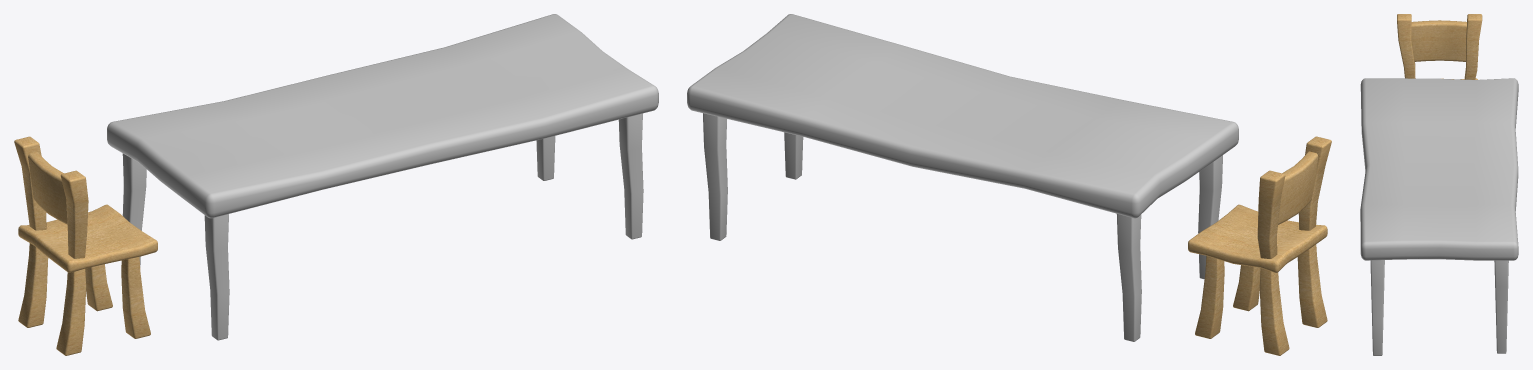
File: table chair.FBX
3 renders of one model, left to right at view 1: azimuth 30°, elevation 25°; view 2: azimuth 150°, elevation 25°; view 3: azimuth 270°, elevation 25°, orthographic. The views are drawn at different scales.
Visible parts, largest first — view 1: ChamferBox001, ChamferBox018, ChamferBox002, ChamferBox008, ChamferBox014, ChamferBox020, ChamferBox021, ChamferBox015, ChamferBox016, ChamferBox006, ChamferBox019, ChamferBox017 (+1 smaller); view 2: ChamferBox001, ChamferBox018, ChamferBox006, ChamferBox007, ChamferBox015, ChamferBox019, ChamferBox021, ChamferBox017, ChamferBox014, ChamferBox002, ChamferBox020, ChamferBox016 (+1 smaller); view 3: ChamferBox001, ChamferBox021, ChamferBox008, ChamferBox007, ChamferBox019, ChamferBox020.
Part boxes in pixels (x1,y1,x2,y2): ChamferBox001: [107, 14, 658, 218]; ChamferBox018: [18, 204, 157, 272]; ChamferBox002: [204, 214, 229, 340]; ChamferBox008: [618, 113, 643, 239]; ChamferBox014: [56, 269, 86, 355]; ChamferBox020: [60, 170, 88, 258]; ChamferBox021: [28, 152, 67, 224]; ChamferBox015: [18, 243, 48, 327]; ChamferBox016: [121, 257, 150, 338]; ChamferBox006: [122, 153, 146, 266]; ChamferBox019: [14, 136, 46, 230]; ChamferBox017: [85, 264, 112, 311]; ChamferBox001: [687, 14, 1238, 218]; ChamferBox018: [1188, 204, 1327, 272]; ChamferBox006: [1116, 214, 1141, 341]; ChamferBox007: [703, 113, 727, 240]; ChamferBox015: [1259, 268, 1289, 355]; ChamferBox019: [1257, 170, 1285, 258]; ChamferBox021: [1278, 151, 1318, 224]; ChamferBox017: [1195, 256, 1224, 338]; ChamferBox014: [1297, 244, 1327, 327]; ChamferBox002: [1198, 155, 1222, 279]; ChamferBox020: [1298, 136, 1331, 230]; ChamferBox016: [1233, 265, 1260, 311]; ChamferBox001: [1360, 78, 1518, 260]; ChamferBox021: [1411, 20, 1466, 61]; ChamferBox008: [1370, 260, 1384, 355]; ChamferBox007: [1494, 260, 1508, 353]; ChamferBox019: [1464, 14, 1482, 79]; ChamferBox020: [1397, 14, 1415, 78].
Bounding box in the file's own units: 166 × 50.57 × 52.91.
